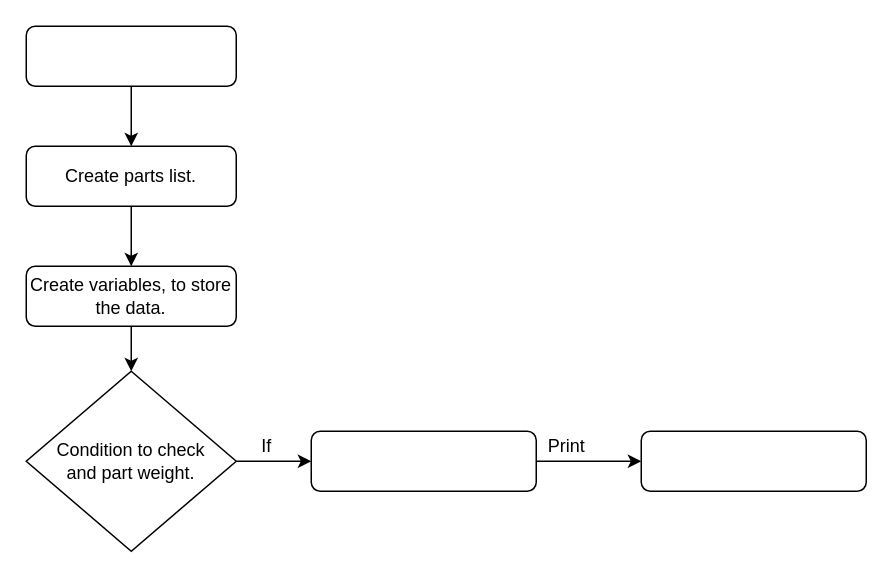
The diagram is 893 pixels wide and 578 high, and some of its shapes have lost their labels. Here are the shapes that lost their labels. From the top down, the centre of each, then its label:
pixel 130 55: Program Start.
pixel 423 460: Weight is less than 100g.
